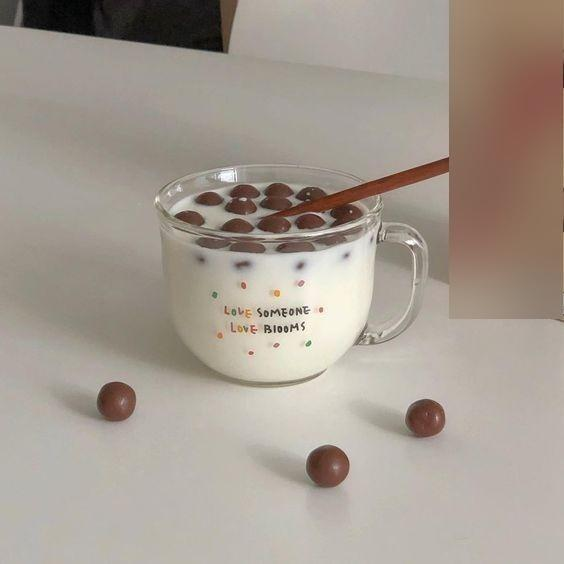glass-mug: (149, 159, 434, 391)
